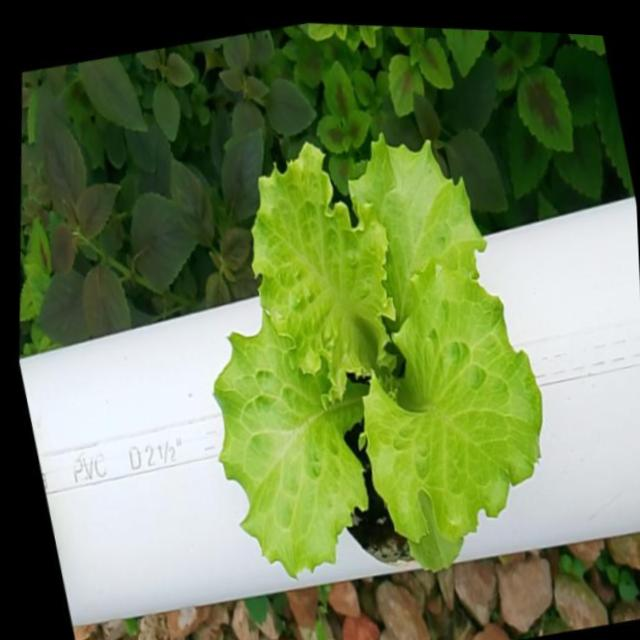Baby: (211, 130, 537, 568)
